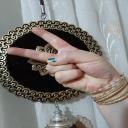PeaceSign: (6, 26, 118, 104)
